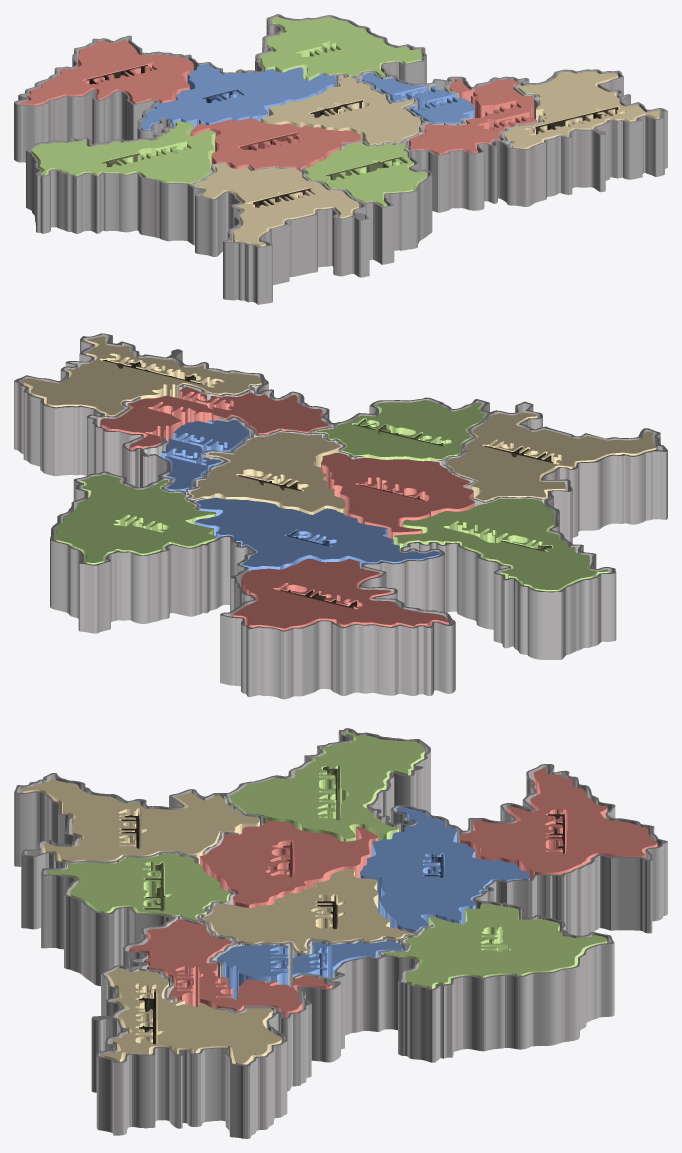
File: solapur_map.glb
3 views of the same model, one above another, from view 1: azimuth 30°, elevation 25°; view 2: azimuth 150°, elevation 25°; view 3: azimuth 270°, elevation 25° (orthographic). The views are drawn at different scales.
Visible parts, largest first — view 1: Node15, Node11, Node1, Node7, Node2, Node4, Node5, Node8, Node6, Node9, Node3, Node12 (+2 smaller); view 2: Node15, Node1, Node11, Node7, Node2, Node4, Node8, Node5, Node6, Node3, Node9, Node12 (+2 smaller); view 3: Node15, Node1, Node11, Node7, Node2, Node4, Node8, Node6, Node5, Node3, Node9, Node12 (+2 smaller).
Part boxes in pixels (left/top/right/bottom): Node15: left=14, top=14, right=667, bottom=304; Node11: left=141, top=64, right=335, bottom=130; Node1: left=31, top=121, right=215, bottom=185; Node7: left=20, top=40, right=193, bottom=105; Node2: left=260, top=17, right=421, bottom=80; Node4: left=196, top=163, right=359, bottom=246; Node5: left=261, top=75, right=420, bottom=144; Node8: left=190, top=118, right=360, bottom=170; Node6: left=504, top=71, right=659, bottom=148; Node9: left=409, top=78, right=534, bottom=154; Node3: left=305, top=142, right=427, bottom=206; Node12: left=410, top=96, right=474, bottom=123; Node15: left=14, top=333, right=667, bottom=699; Node1: left=393, top=498, right=608, bottom=591; Node11: left=194, top=497, right=439, bottom=570; Node7: left=233, top=558, right=448, bottom=630; Node2: left=55, top=474, right=216, bottom=564; Node4: left=447, top=412, right=656, bottom=501; Node8: left=321, top=453, right=474, bottom=538; Node5: left=190, top=432, right=345, bottom=515; Node6: left=22, top=336, right=261, bottom=416; Node3: left=315, top=400, right=485, bottom=461; Node9: left=100, top=392, right=328, bottom=450; Node12: left=173, top=420, right=249, bottom=452; Node15: left=14, top=728, right=667, bottom=1138; Node1: left=229, top=732, right=424, bottom=841; Node11: left=360, top=807, right=529, bottom=931; Node7: left=459, top=767, right=657, bottom=879; Node2: left=383, top=903, right=607, bottom=988; Node4: left=21, top=779, right=259, bottom=863; Node8: left=200, top=820, right=377, bottom=907; Node6: left=103, top=968, right=281, bottom=1064; Node5: left=202, top=869, right=413, bottom=953; Node3: left=47, top=853, right=230, bottom=921; Node9: left=129, top=919, right=332, bottom=1017; Node12: left=216, top=945, right=288, bottom=999.
Size of the model in its own units: 3.93 by 0.3937 by 3.21.
